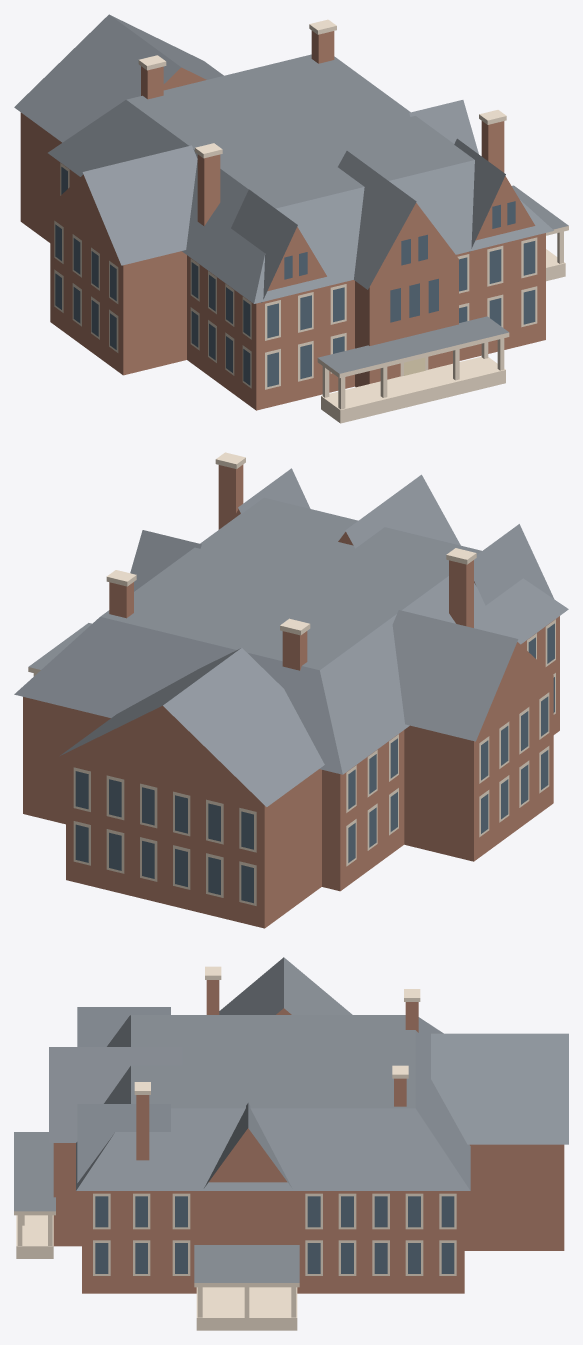
File: ral-executive-mansion.glb
The picture shows the model from 3 angles, top to bottom: view 1: azimuth 30°, elevation 25°; view 2: azimuth 150°, elevation 25°; view 3: azimuth 270°, elevation 25°; orthographic projection. The views are drawn at different scales.
Visible parts, largest first — view 1: North Carolina Executive Mansion; view 2: North Carolina Executive Mansion; view 3: North Carolina Executive Mansion.
Boxes of the visible parts, x1,y1,x2,y2 form: North Carolina Executive Mansion: (14,14,568,423); North Carolina Executive Mansion: (14,452,568,928); North Carolina Executive Mansion: (14,957,568,1330).
Bounding box in the file's own units: 41.4 × 18.6 × 47.4.
